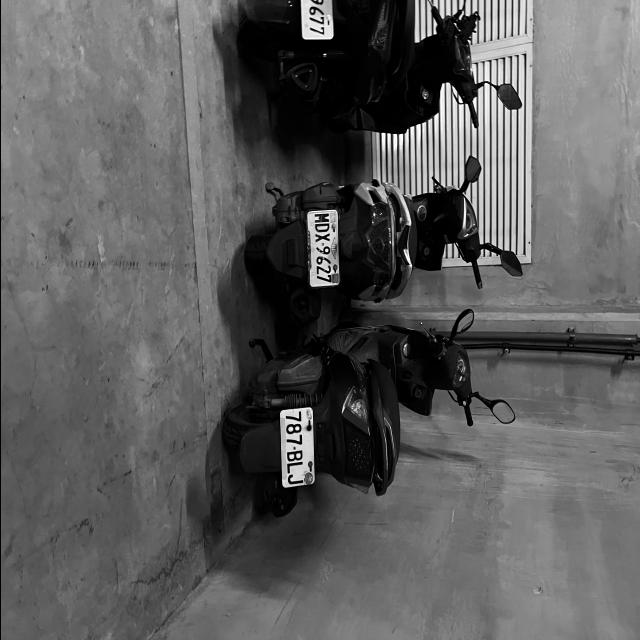-: (292, 445, 296, 451), (320, 242, 322, 246)
2: (316, 265, 330, 275)
6: (308, 6, 324, 16), (315, 256, 330, 265)
7: (286, 434, 302, 446), (285, 411, 301, 422), (308, 16, 324, 26), (308, 26, 324, 36), (316, 274, 331, 284)
8: (285, 423, 301, 435)
9: (316, 246, 330, 254)
B: (286, 450, 302, 463)
D: (314, 224, 329, 232)
J: (286, 474, 302, 484)
L: (286, 461, 303, 474)
M: (314, 212, 328, 224)
X: (314, 232, 330, 243)
plate: (281, 408, 312, 491), (307, 210, 337, 288)
